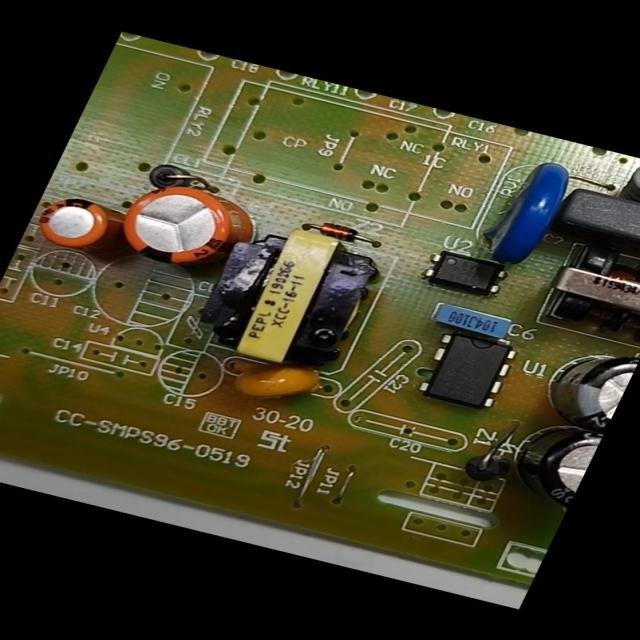Cap1: (95, 163, 281, 290)
Cap2: (23, 187, 129, 262)
Cap3: (520, 333, 639, 441)
Cap4: (478, 406, 606, 517)
MOSFET: (407, 320, 527, 416)
Mov: (466, 149, 588, 278)
Resistor: (607, 154, 639, 208)
Transformer: (186, 213, 393, 382), (528, 234, 639, 349)
